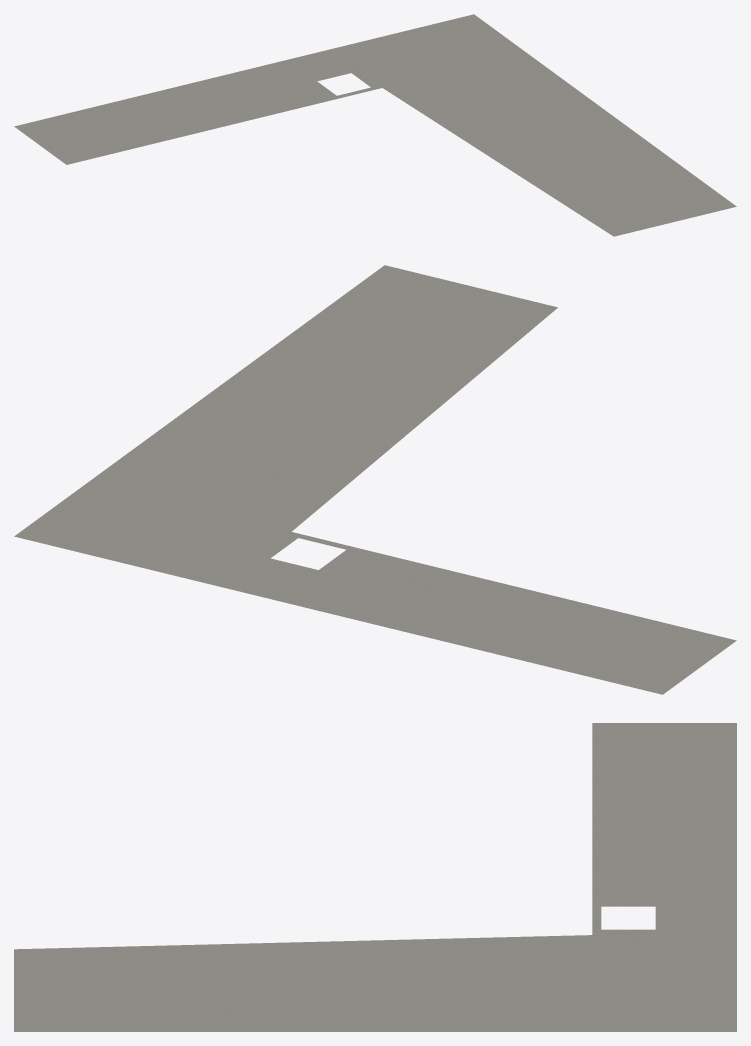
File: kd_stage_135c43_4_19_bounded_piece_1.glb
3 renders of one model, top to bottom at view 1: azimuth 30°, elevation 25°; view 2: azimuth 150°, elevation 25°; view 3: azimuth 270°, elevation 25°, orthographic. The views are drawn at different scales.
Visible parts, largest first — view 1: kd_stage_135c43_4_19_bounded_piece_1; view 2: kd_stage_135c43_4_19_bounded_piece_1; view 3: kd_stage_135c43_4_19_bounded_piece_1.
Part boxes in pixels (x1=…): kd_stage_135c43_4_19_bounded_piece_1: x1=14, y1=14, x2=736, y2=236; kd_stage_135c43_4_19_bounded_piece_1: x1=14, y1=265, x2=736, y2=694; kd_stage_135c43_4_19_bounded_piece_1: x1=14, y1=723, x2=736, y2=1031.
Size of the model in its own units: 4.72 by 8.34e-07 by 4.67.
Materials: 1 (1 with a texture image).
